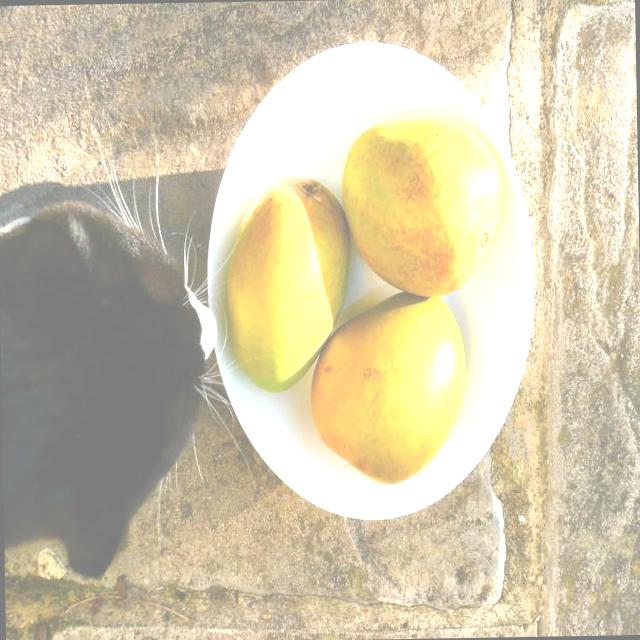Mango: (308, 292, 467, 488), (339, 118, 505, 300), (224, 176, 352, 394)
